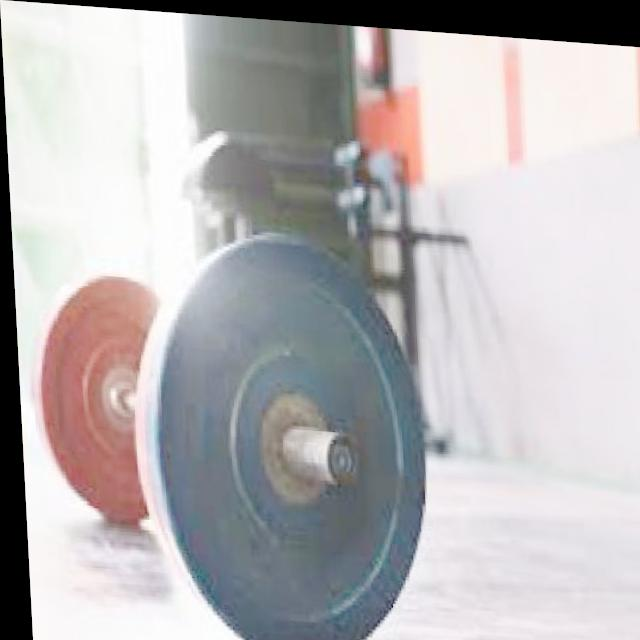barbell: (123, 214, 439, 640)
